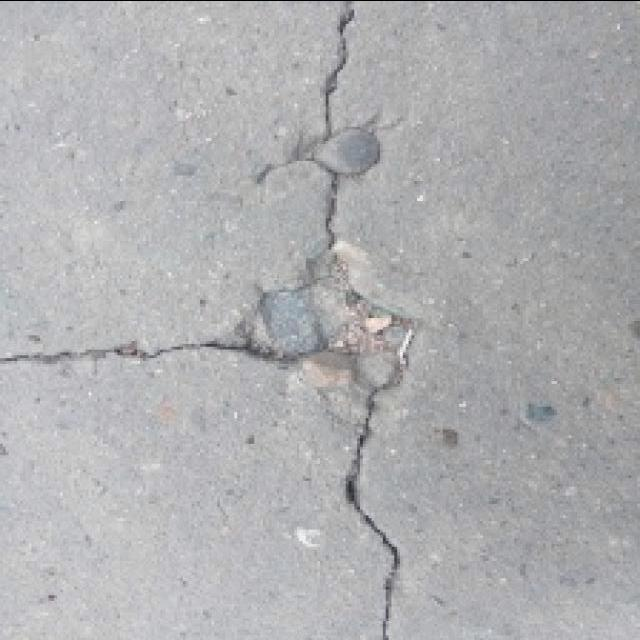SurfaceCrack: (254, 0, 478, 640), (0, 278, 538, 440)
